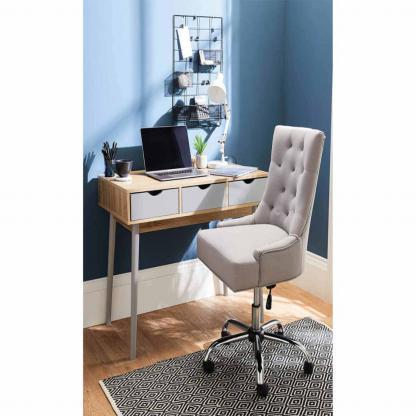chair: (196, 120, 330, 398)
light: (204, 68, 262, 178)
table: (97, 162, 271, 358)
